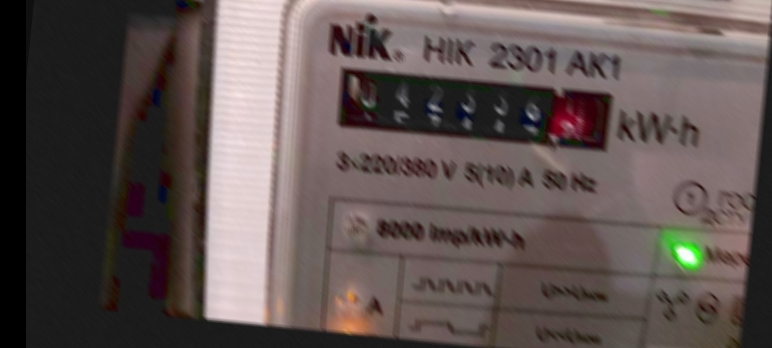0: (359, 79, 378, 108)
1: (563, 93, 577, 116)
2: (427, 82, 446, 112), (558, 119, 576, 138)
3: (491, 85, 510, 117), (459, 84, 477, 113)
4: (394, 77, 413, 108)
6: (525, 90, 545, 122)
screen: (325, 53, 627, 163)
